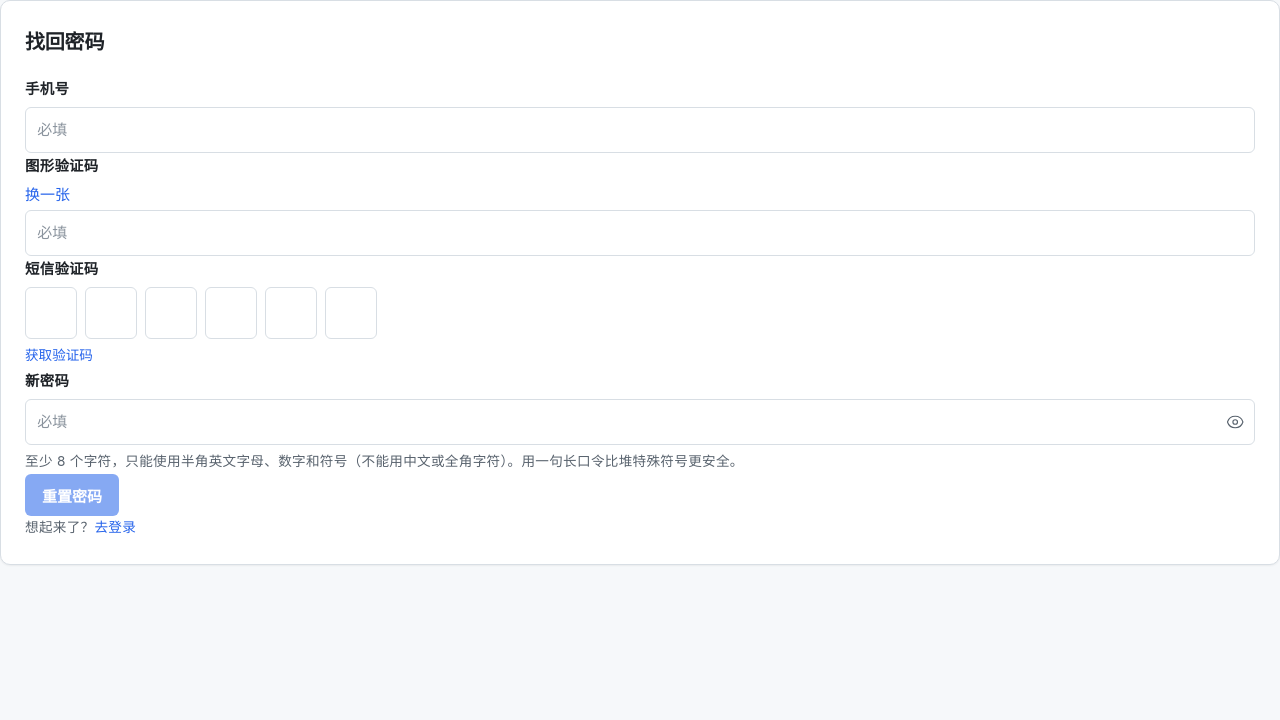
Test: the reset page › keeps the reset button shut until a code has gone out, and opens it once one has
In the field labelled "手机号": (640, 130) [25, 107, 1255, 153], type "13800138000"
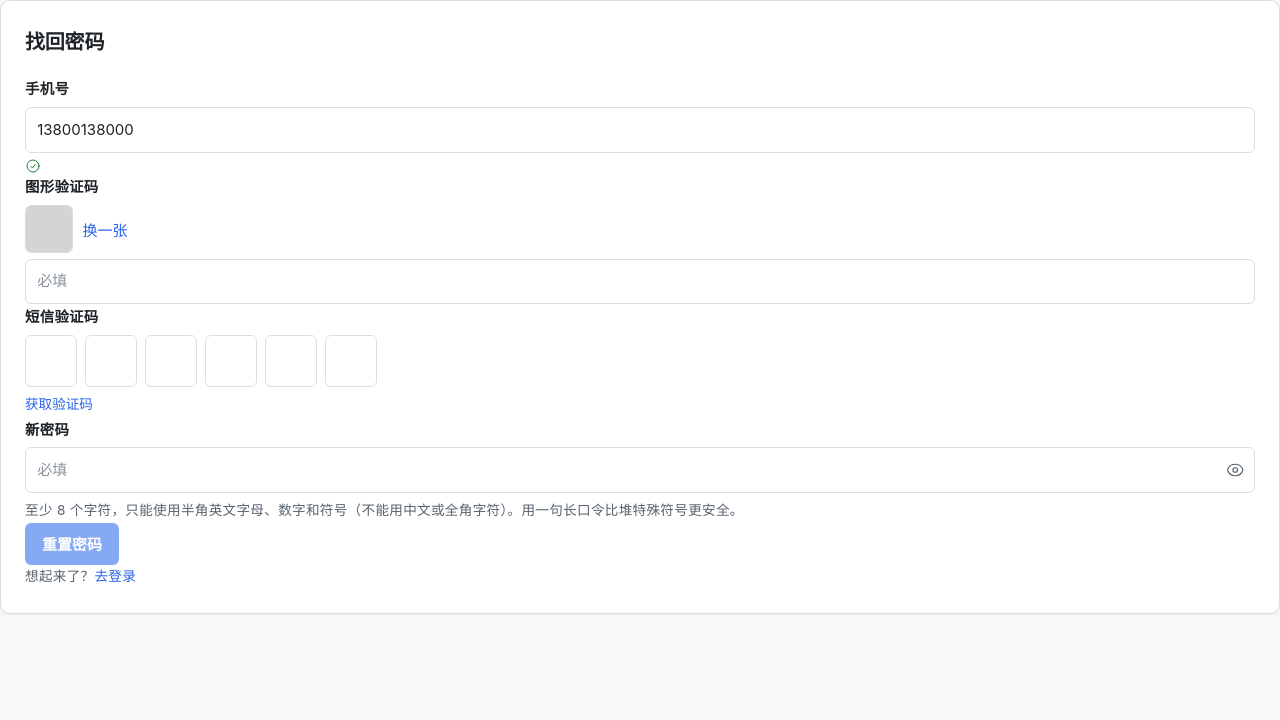
In the field with id "captcha": (640, 282) [25, 259, 1255, 304], type "TEST"
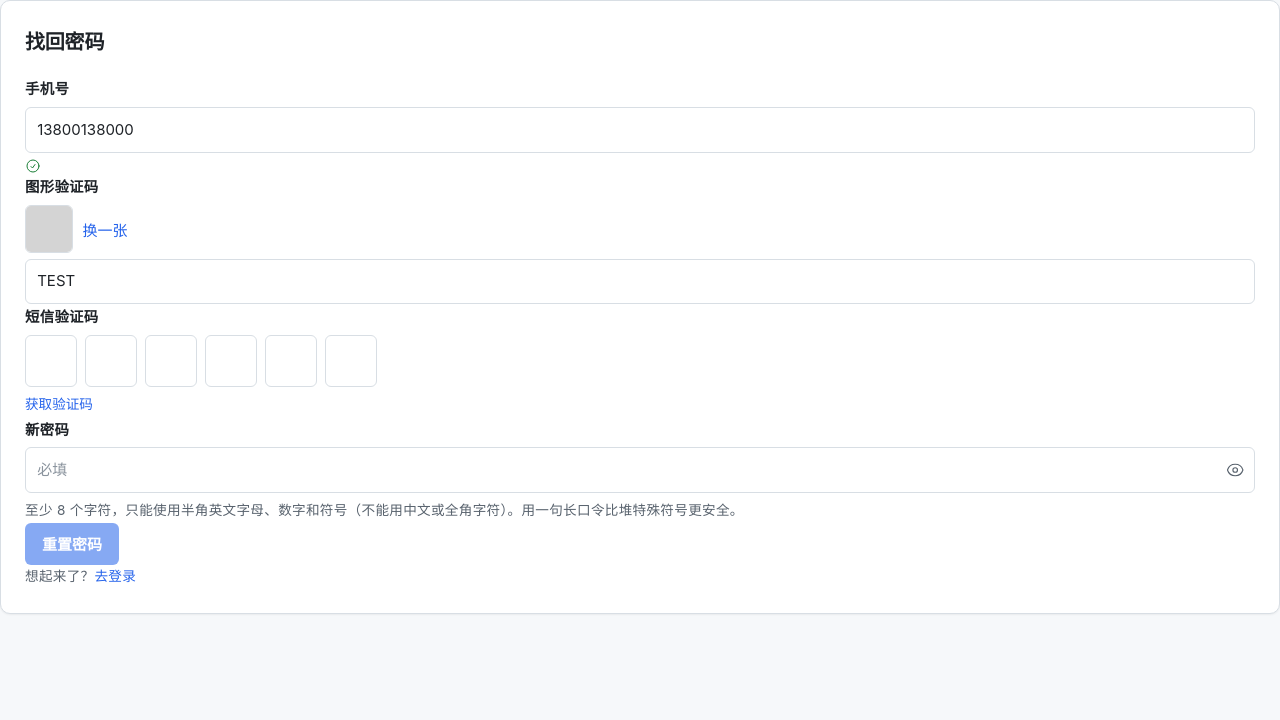
In the field with id "sms-code": (640, 361) [25, 335, 1255, 387], type "123456"
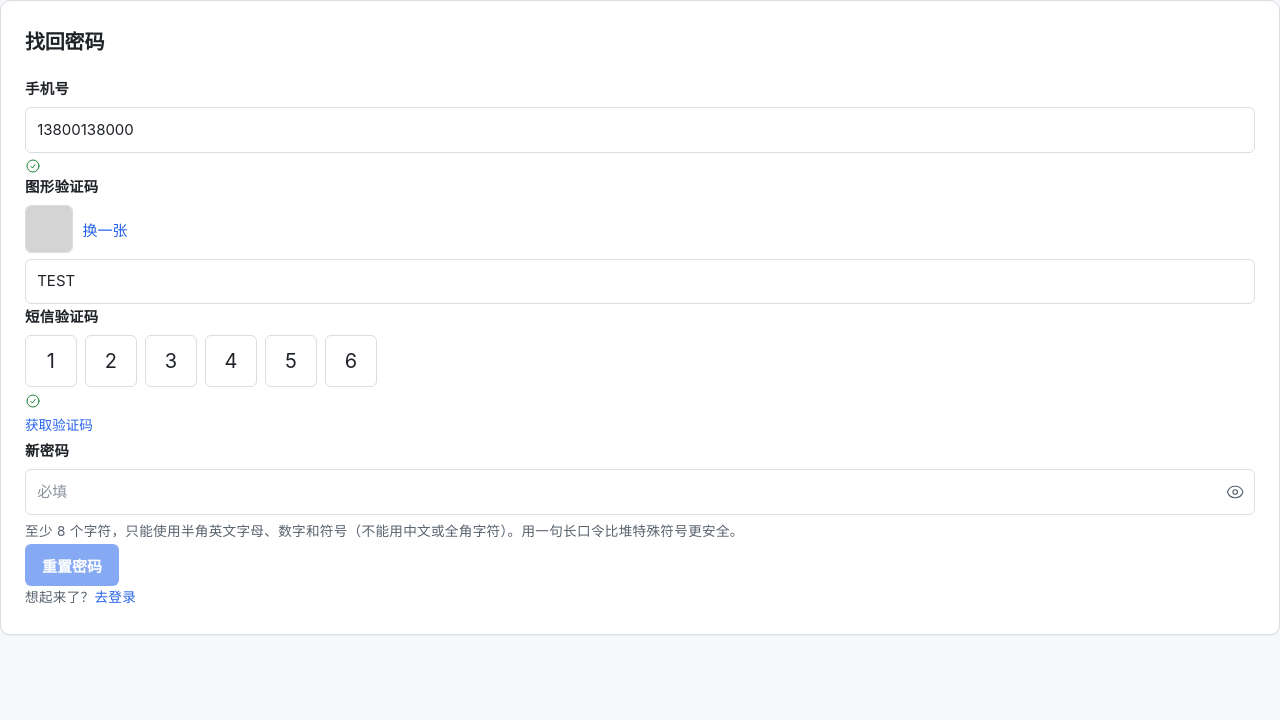
In the password field labelled "新密码": (640, 492) [25, 469, 1255, 515], type "a-different-long-password"
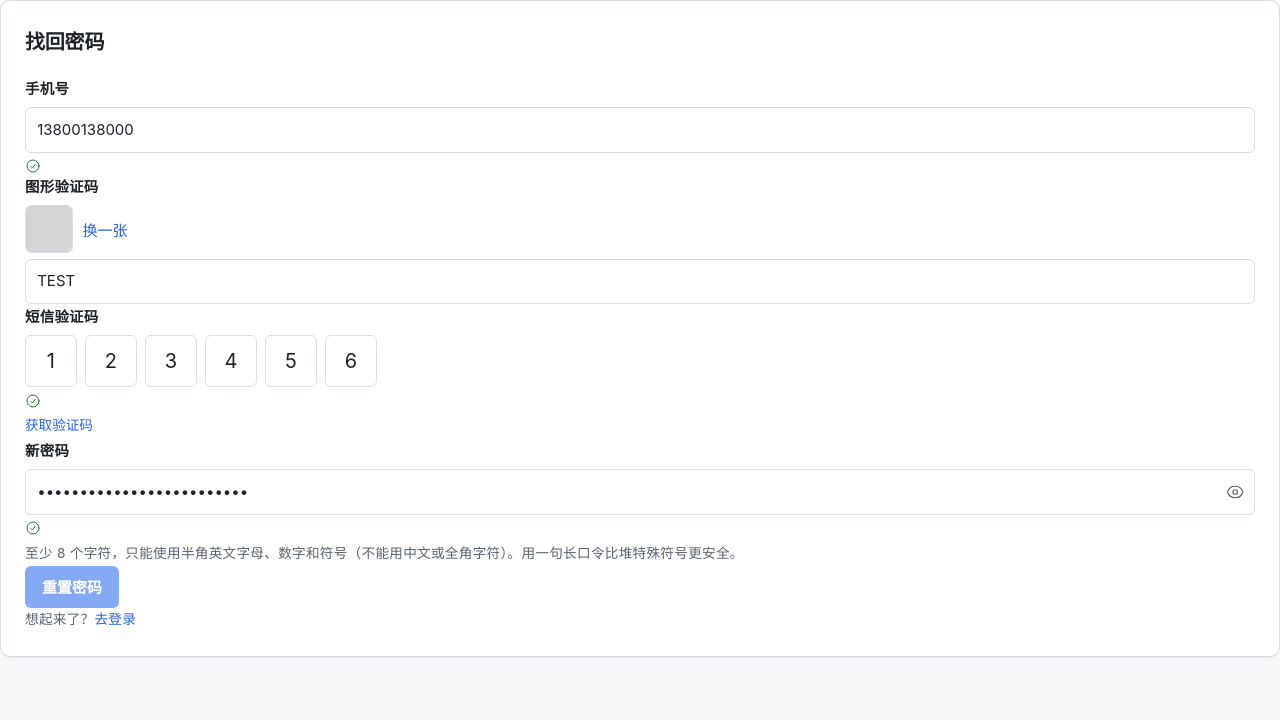
Expected: the submit button is disabled, [25, 566, 119, 608]
Click the button with class "resend": click(59, 424) [25, 414, 93, 434]
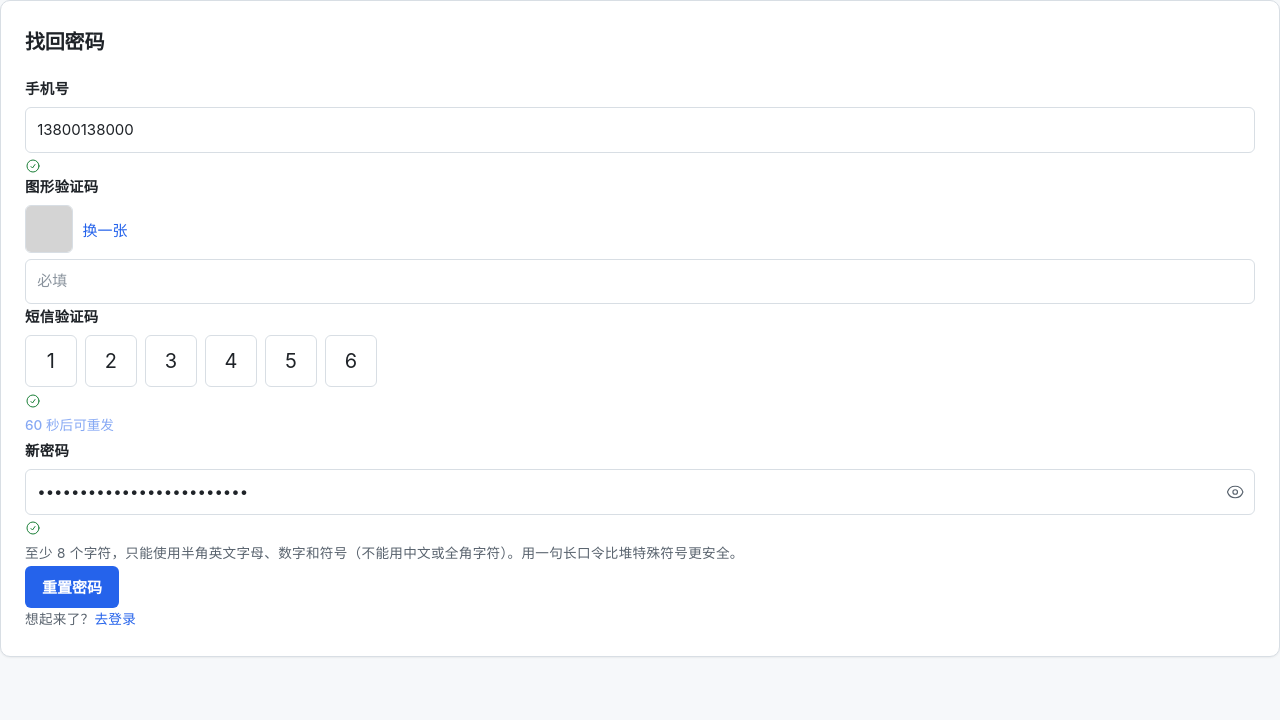
Expected: the submit button is enabled, [25, 566, 119, 608]
